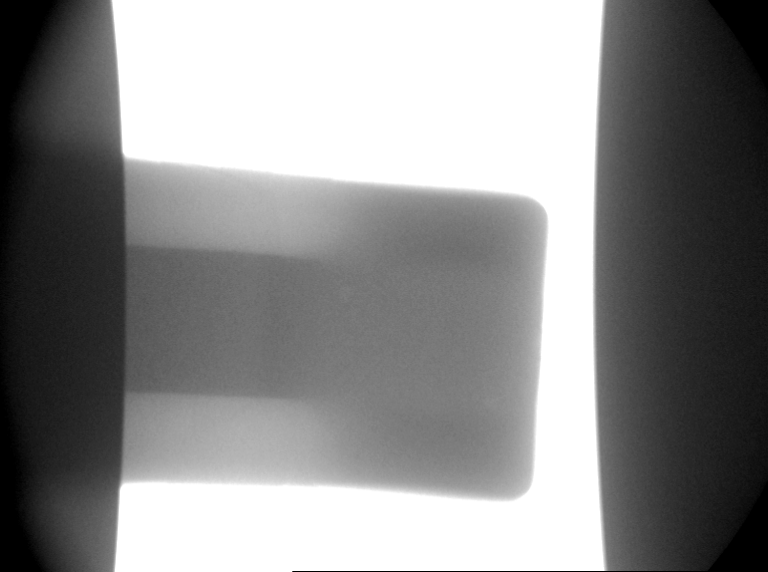defect: (477, 388, 508, 422)
